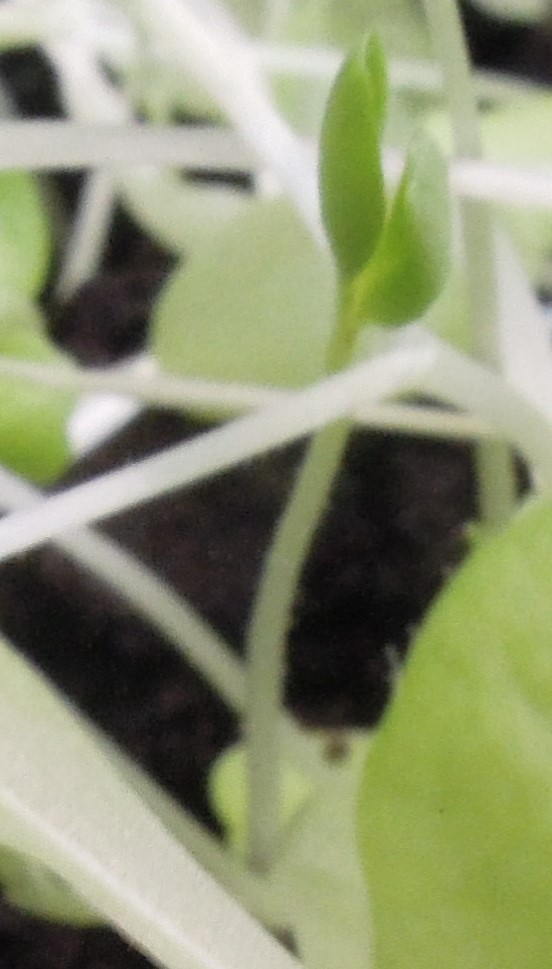week1: (263, 23, 501, 361)
